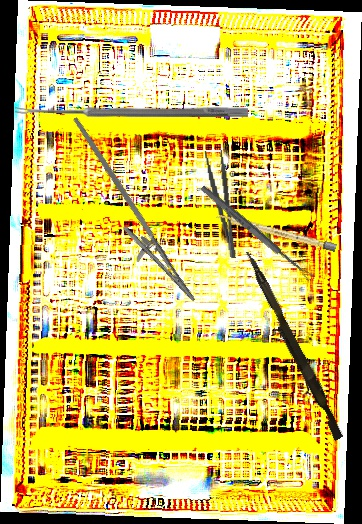Dressing Forceps: (203, 148, 239, 260)
Needle Holder: (39, 116, 217, 313)
Pusher: (237, 250, 349, 441)
Scalpel Handle: (215, 212, 337, 252)
Surgical Spoon: (199, 183, 314, 283), (15, 106, 248, 117)
